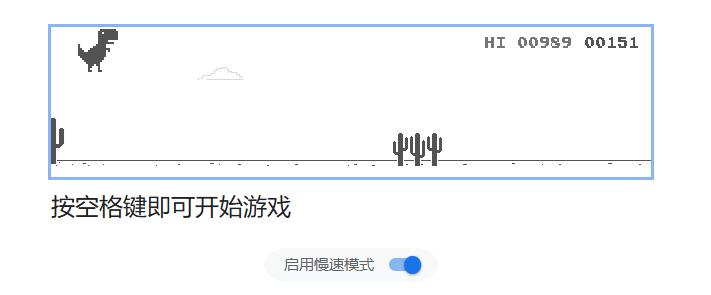cactus: (389, 130, 445, 168), (48, 114, 68, 166)
dino: (78, 27, 119, 73)
